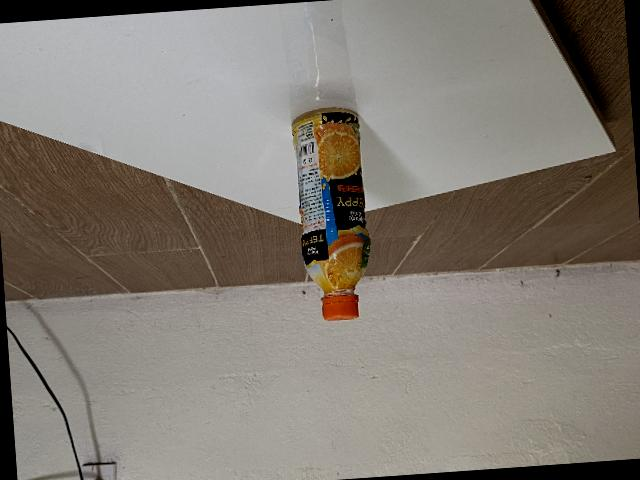teppy_orange_juice: (289, 104, 370, 320)
